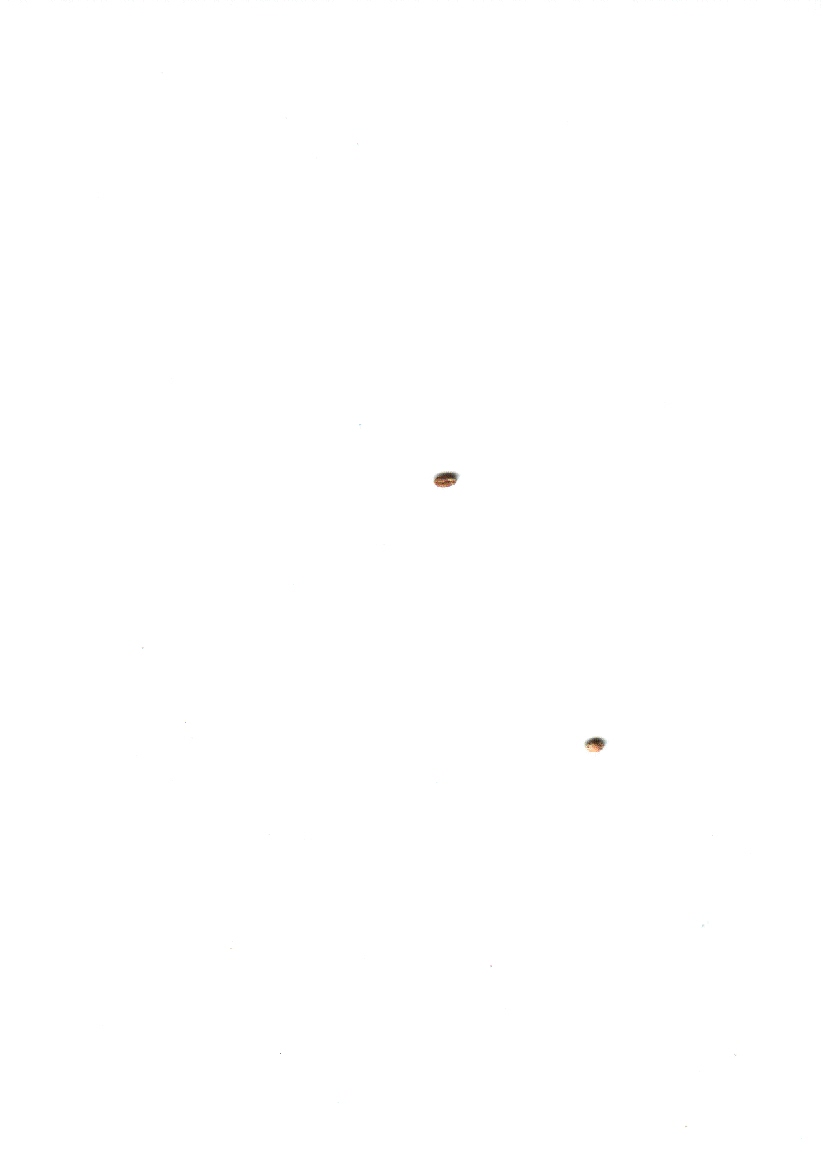grains: (423, 454, 464, 510), (576, 727, 618, 768)
